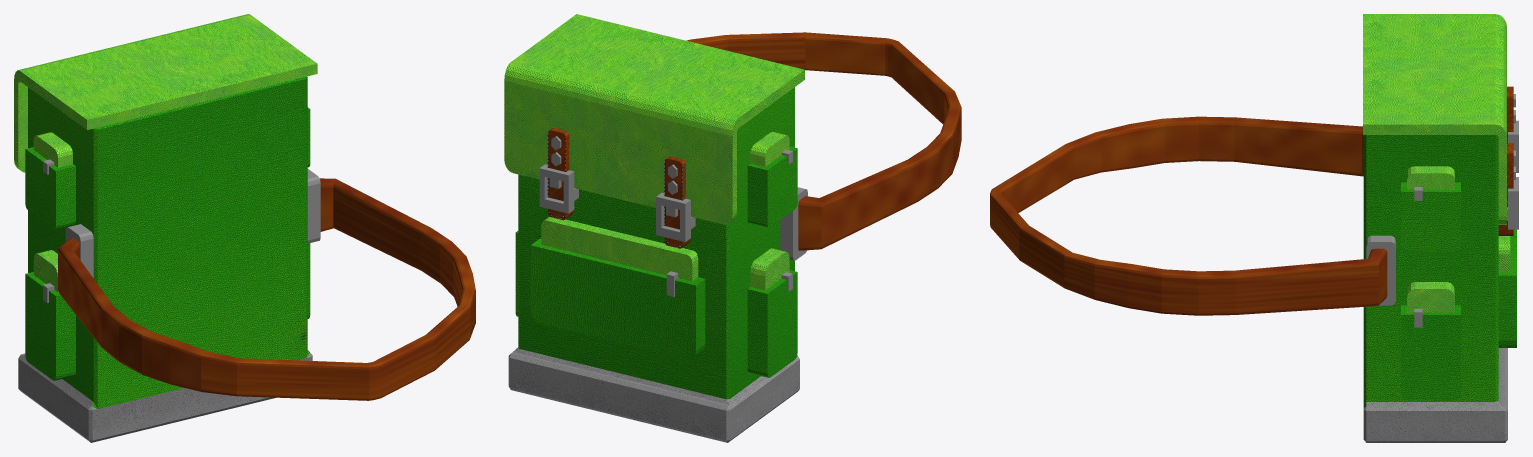
File: Bag.fbx
3 renders of one model, left to right at view 1: azimuth 30°, elevation 25°; view 2: azimuth 150°, elevation 25°; view 3: azimuth 270°, elevation 25°, orthographic.
Visible parts, largest first — view 1: Cube.004; view 2: Cube.004; view 3: Cube.004.
Boxes of the visible parts, x1,y1,x2,y2 form: Cube.004: (14, 14, 475, 442); Cube.004: (504, 14, 961, 442); Cube.004: (990, 14, 1518, 442).
Bounding box in the file's own units: 219 × 204 × 304.
5 materials, 4 textured.
